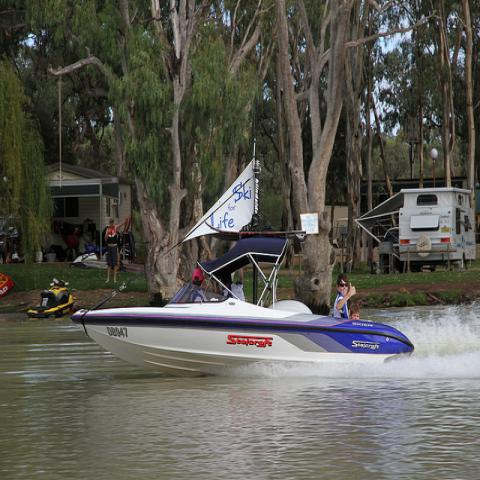car: (384, 227, 399, 249)
